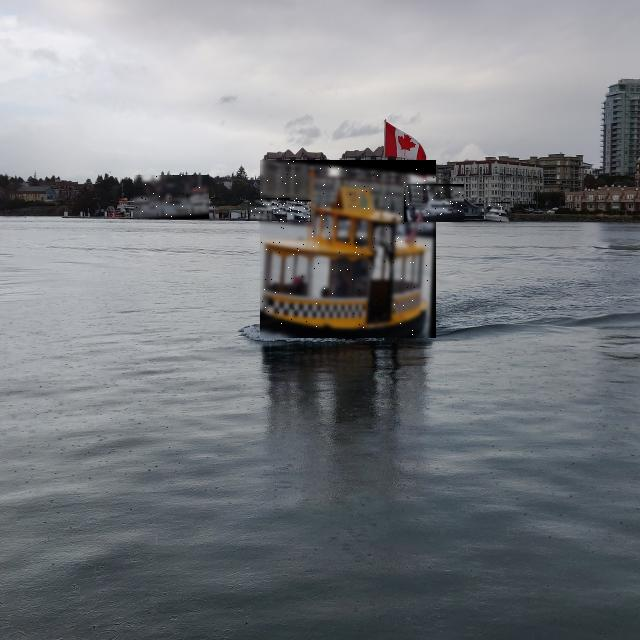boat: (260, 160, 436, 338), (134, 175, 209, 219), (404, 184, 464, 222), (174, 198, 222, 220), (248, 198, 290, 221), (272, 200, 311, 222), (485, 202, 510, 222)
